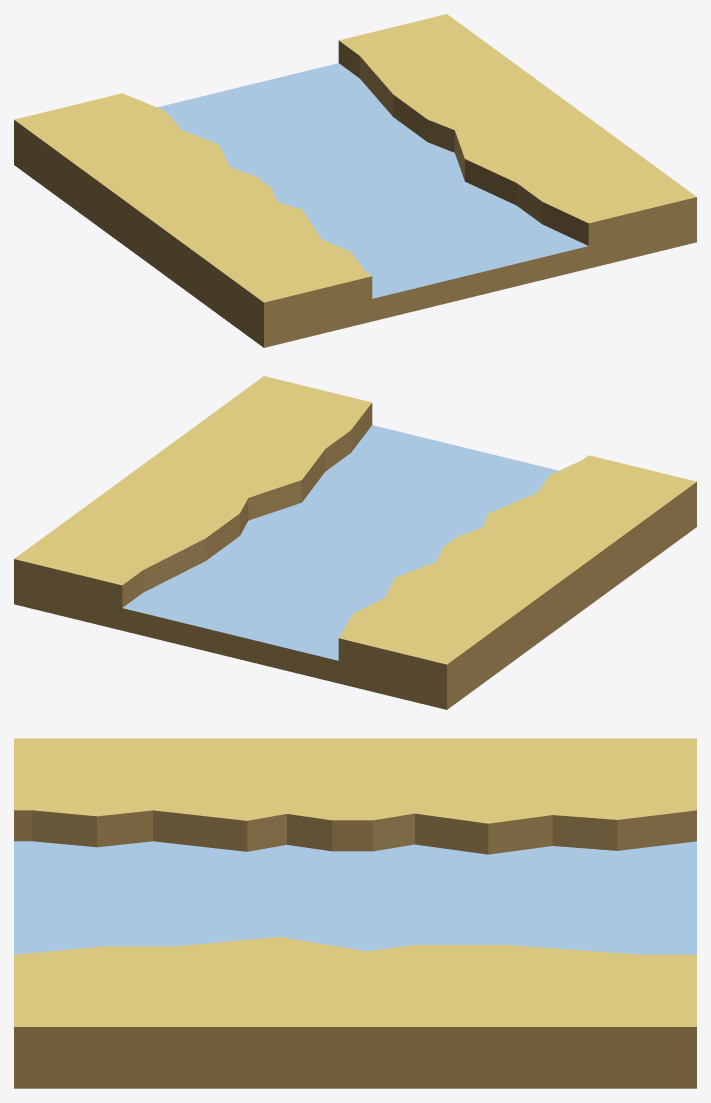
The model's file is Terrain_Modular_Tiles_Sand_Dirt_River_Straight_03.fbx.
3 views of the same model, one above another, from view 1: azimuth 30°, elevation 25°; view 2: azimuth 150°, elevation 25°; view 3: azimuth 270°, elevation 25° (orthographic). The views are drawn at different scales.
Parts seen in each view (by area): view 1: Terrain_Modular_Tiles_Sand_Dirt_River_Straight_03; view 2: Terrain_Modular_Tiles_Sand_Dirt_River_Straight_03; view 3: Terrain_Modular_Tiles_Sand_Dirt_River_Straight_03.
Part boxes in pixels (bbox=[...]): Terrain_Modular_Tiles_Sand_Dirt_River_Straight_03: bbox=[14, 14, 696, 347]; Terrain_Modular_Tiles_Sand_Dirt_River_Straight_03: bbox=[14, 376, 696, 709]; Terrain_Modular_Tiles_Sand_Dirt_River_Straight_03: bbox=[14, 738, 696, 1088].
Size of the model in its own units: 118 by 11.81 by 118.
